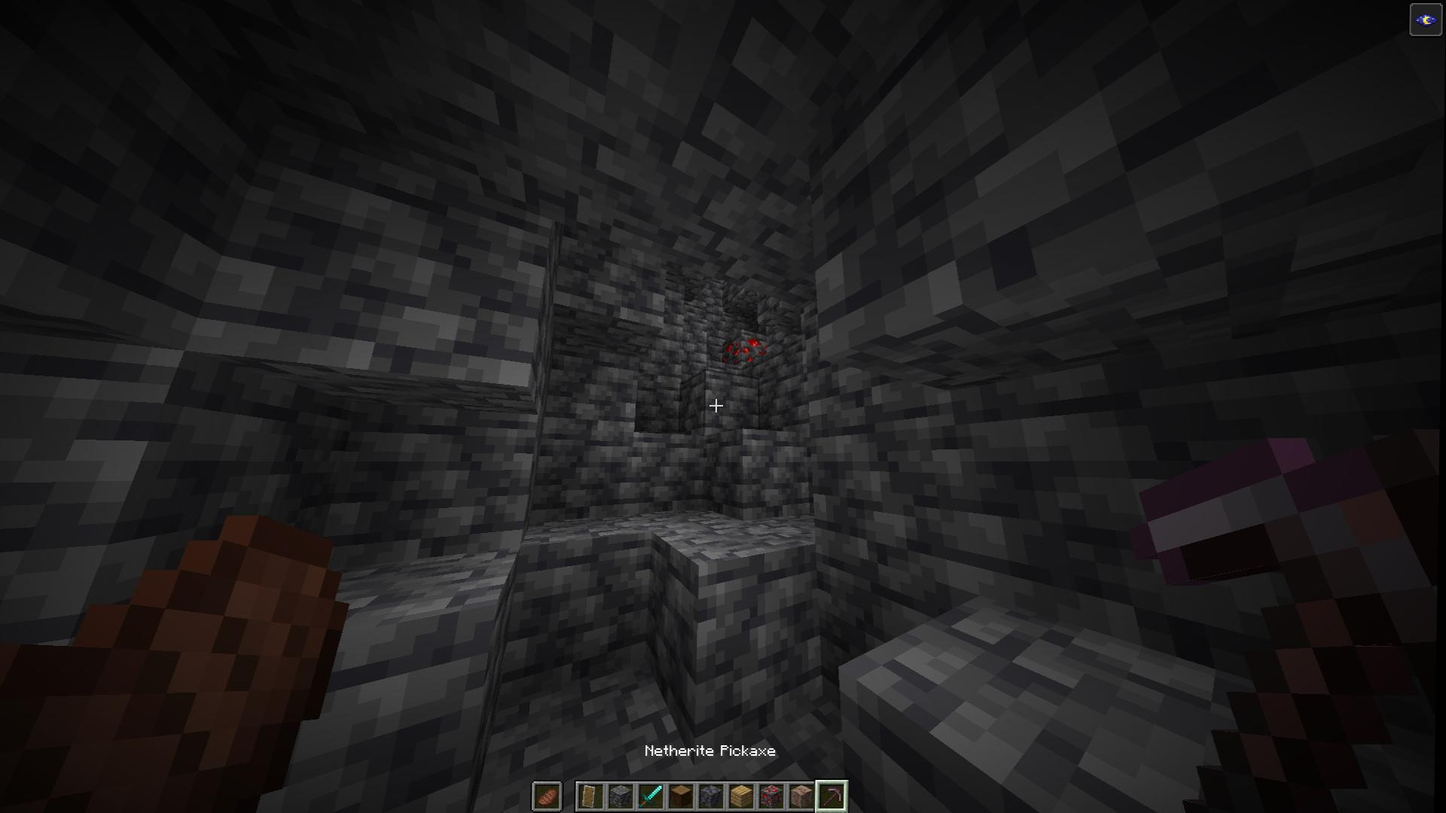redstone ore: (742, 333, 775, 365), (718, 338, 745, 368)
